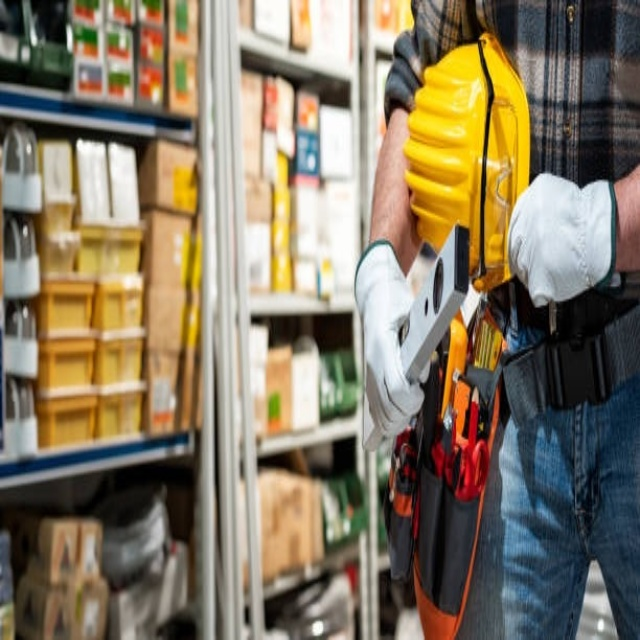Guantes: (503, 157, 619, 316), (349, 232, 429, 441)
